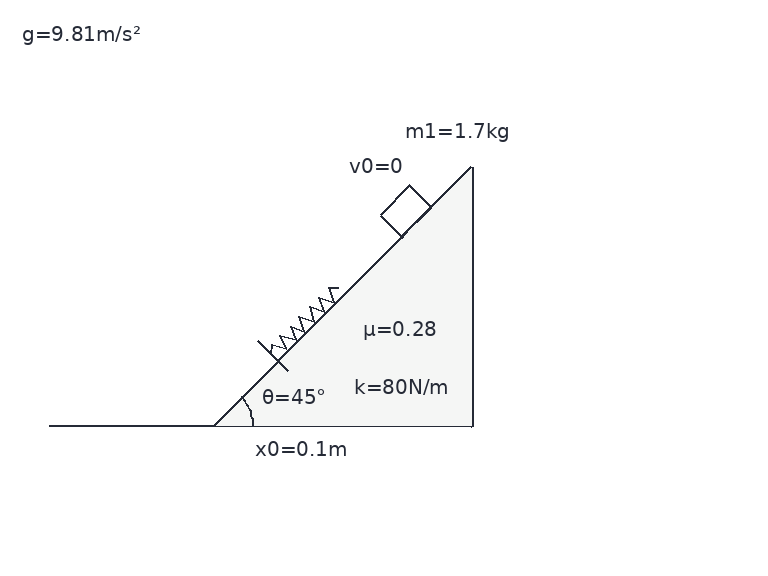block: (378, 183, 433, 239)
ramp: (211, 165, 473, 427)
spring: (269, 285, 340, 356)
